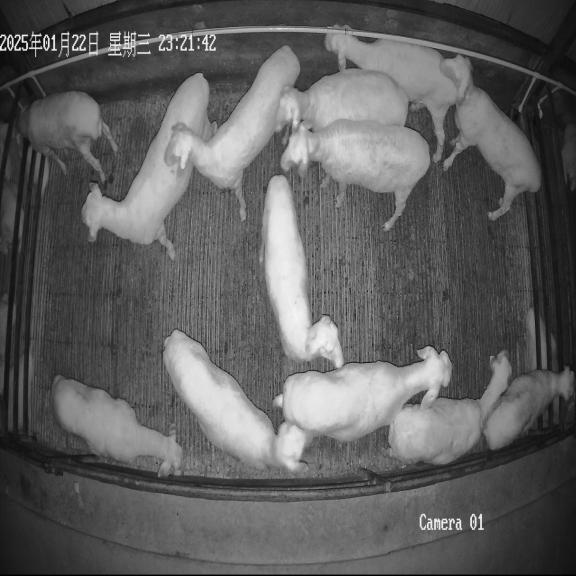drinking: (12, 91, 118, 181)
stand: (81, 73, 217, 260), (165, 46, 300, 220), (163, 329, 310, 473), (325, 30, 457, 162), (273, 346, 452, 442), (441, 54, 541, 221), (281, 119, 430, 231), (260, 175, 344, 368), (388, 351, 511, 465), (50, 375, 183, 476), (276, 68, 408, 131), (483, 368, 574, 450)
